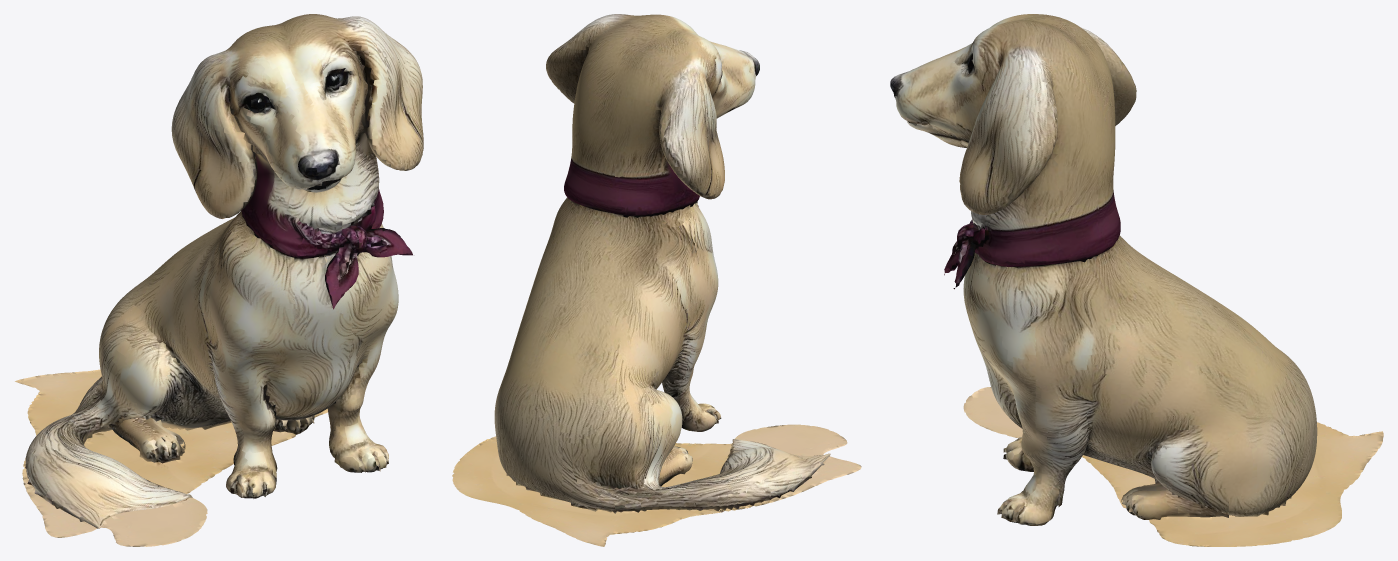
Rendered from bruce.glb.
The picture shows the model from 3 angles, left to right: view 1: azimuth 30°, elevation 25°; view 2: azimuth 150°, elevation 25°; view 3: azimuth 270°, elevation 25°; orthographic projection. The views are drawn at different scales.
Parts seen in each view (by area): view 1: node_0; view 2: node_0; view 3: node_0.
Boxes of the visible parts, x1,y1,x2,y2 form: node_0: (15, 14, 423, 546); node_0: (452, 14, 861, 546); node_0: (890, 14, 1383, 546).
Size of the model in its own units: 0.712 by 0.8501 by 0.8152.
Materials: 1 (1 with a texture image).
